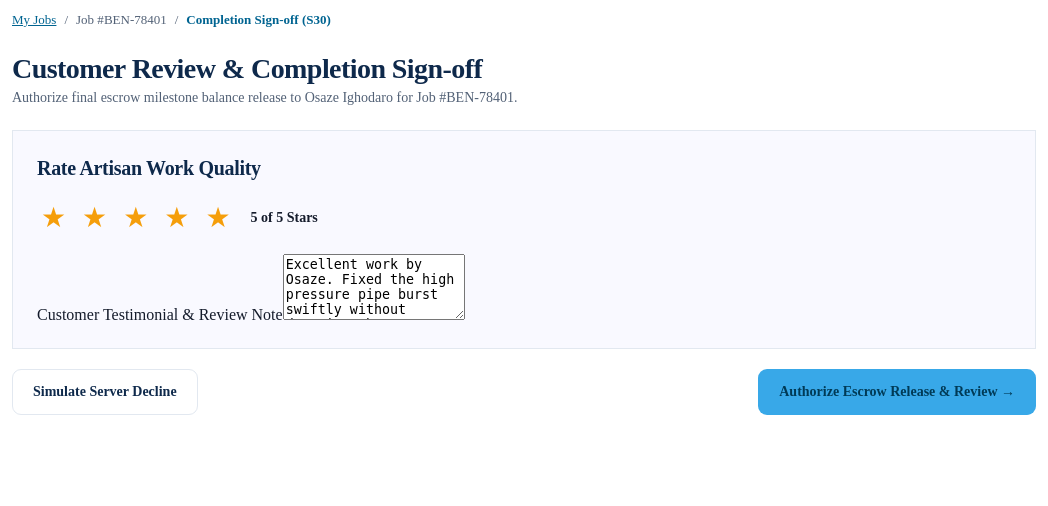
it: Job Lifecycle & Work Progress (S26, S27, S28, S29, S30) › renders S30 Customer Review & Sign-off screen and submits release authorization
Expected: the heading "Customer Review & Completion Sign-off" is shown, [12,53,482,84]
Click the button "Authorize Escrow Release & Review →" at coordinates (897, 392), box [758,369,1036,415]
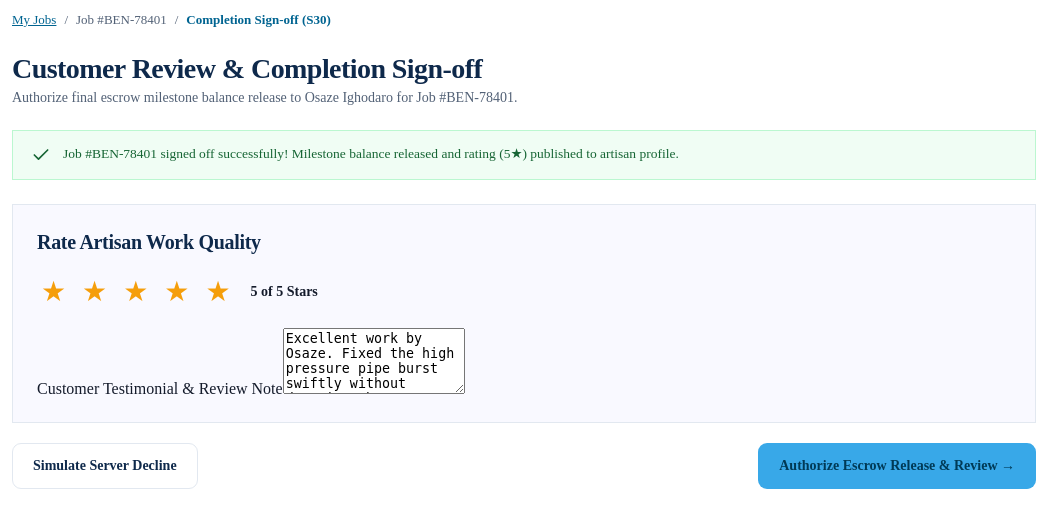
Expected: the text "signed off successfully" is shown, [63,146,679,161]
